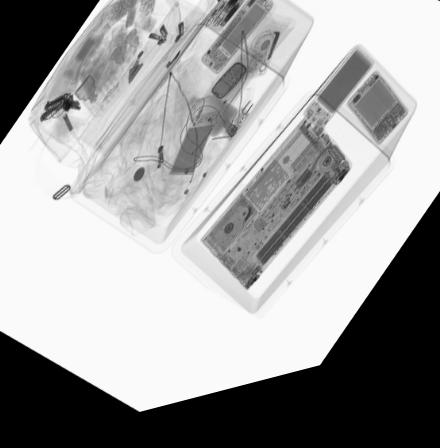Powerbank: (302, 64, 375, 147), (166, 122, 219, 186)
